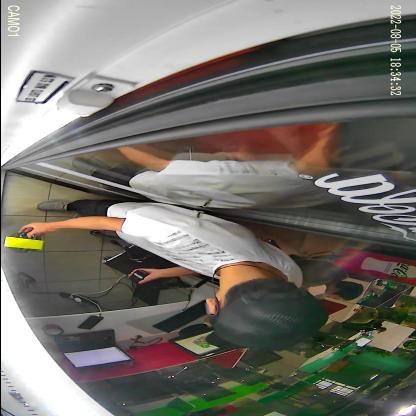yellow: (2, 232, 44, 254)
